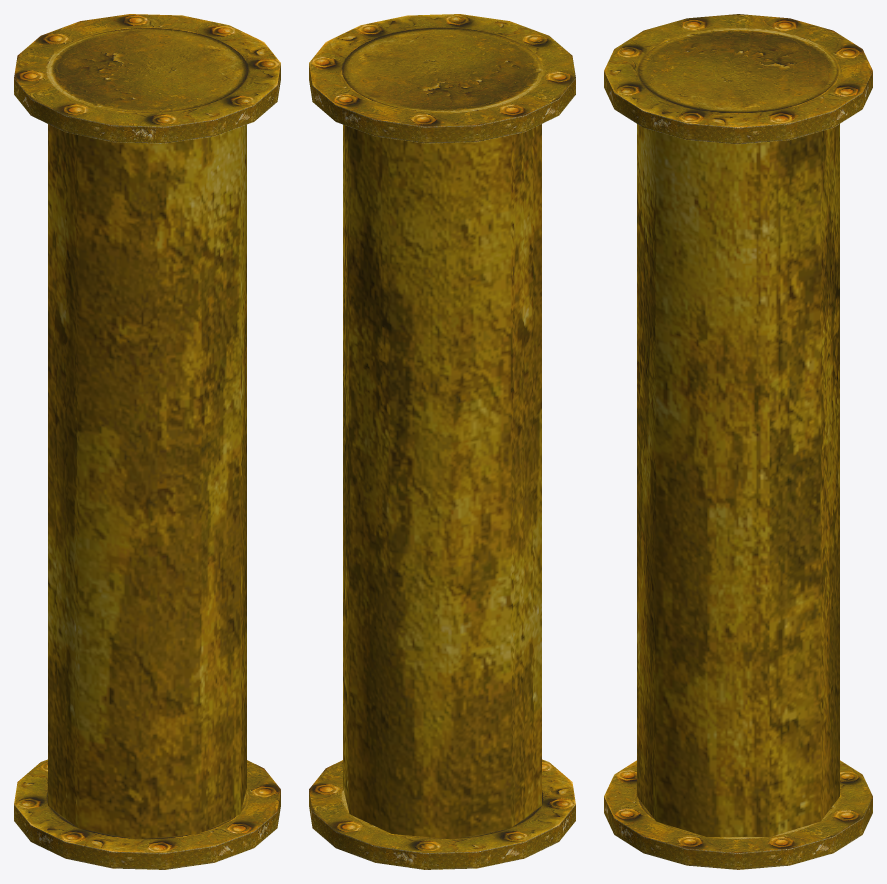
File: 2m_yellow.DAE
The picture shows the model from 3 angles, left to right: view 1: azimuth 30°, elevation 25°; view 2: azimuth 150°, elevation 25°; view 3: azimuth 270°, elevation 25°; orthographic projection.
Parts seen in each view (by area): view 1: Object366, Object376; view 2: Object366, Object376; view 3: Object366, Object376.
Boxes of the visible parts, x1,y1,x2,y2 form: Object366: (48, 124, 246, 839); Object376: (14, 14, 280, 869); Object366: (343, 124, 541, 839); Object376: (309, 14, 575, 869); Object366: (637, 124, 839, 836); Object376: (604, 14, 872, 869).
Size of the model in its own units: 0.6566 by 0.6566 by 2.
